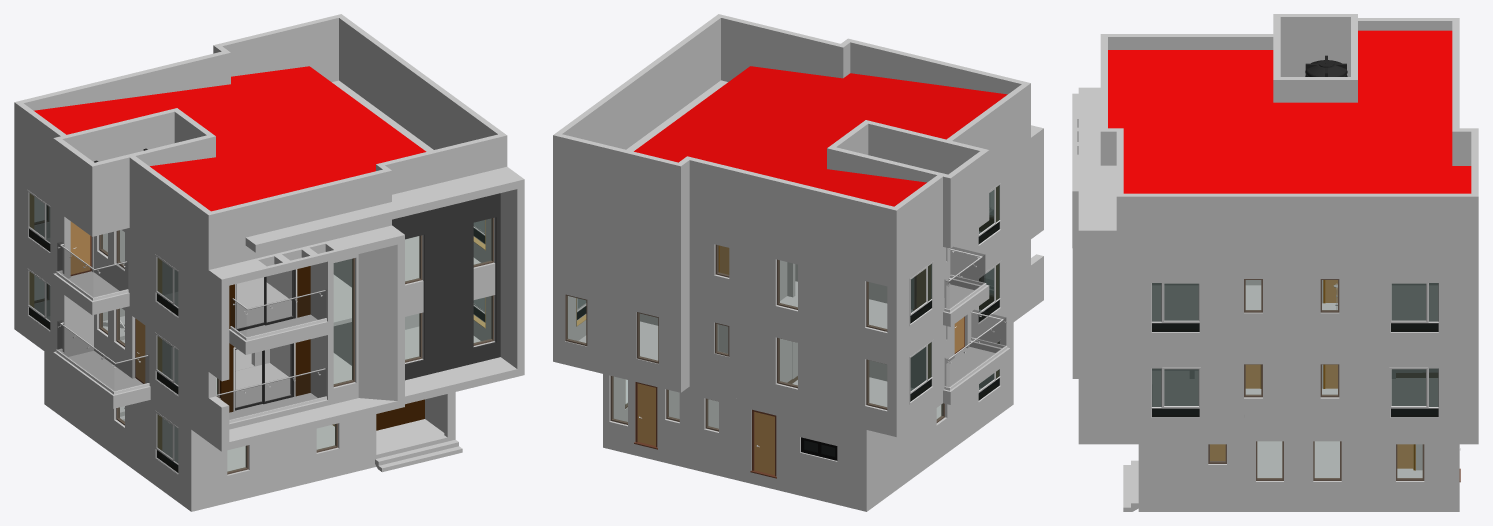
Rendered from MunMun.glb.
3 renders of one model, left to right at view 1: azimuth 30°, elevation 25°; view 2: azimuth 150°, elevation 25°; view 3: azimuth 270°, elevation 25°, orthographic. The views are drawn at different scales.
Parts seen in each view (by area): view 1: Mesh_0; view 2: Mesh_0; view 3: Mesh_0.
Boxes of the visible parts, bbox=[...] form: Mesh_0: bbox=[14, 14, 524, 511]; Mesh_0: bbox=[553, 14, 1043, 511]; Mesh_0: bbox=[1072, 14, 1478, 511].
Size of the model in its own units: 13.77 by 11.85 by 12.92.
